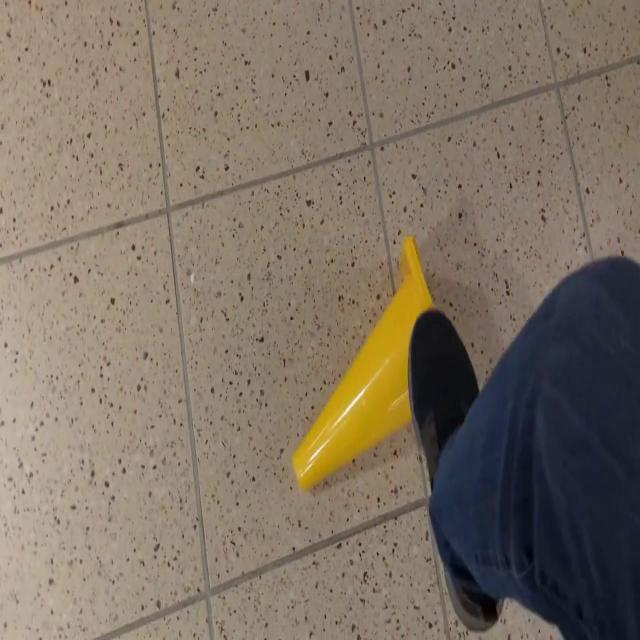frc_cone: (294, 237, 436, 490)
